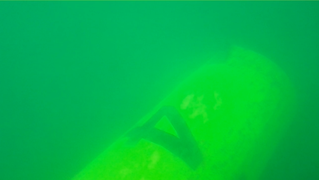4: (123, 103, 205, 171), (237, 171, 248, 180)
pipe: (70, 44, 299, 179)
